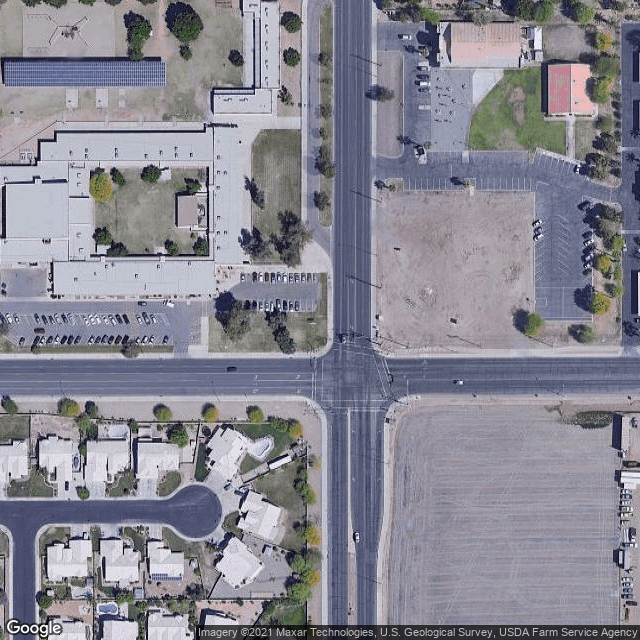carport-fixed: (4, 59, 166, 86)
